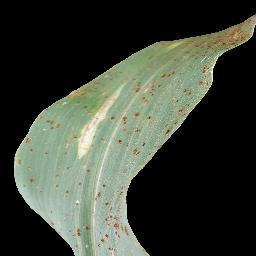Corn_Common_Rust: (3, 11, 256, 256)
